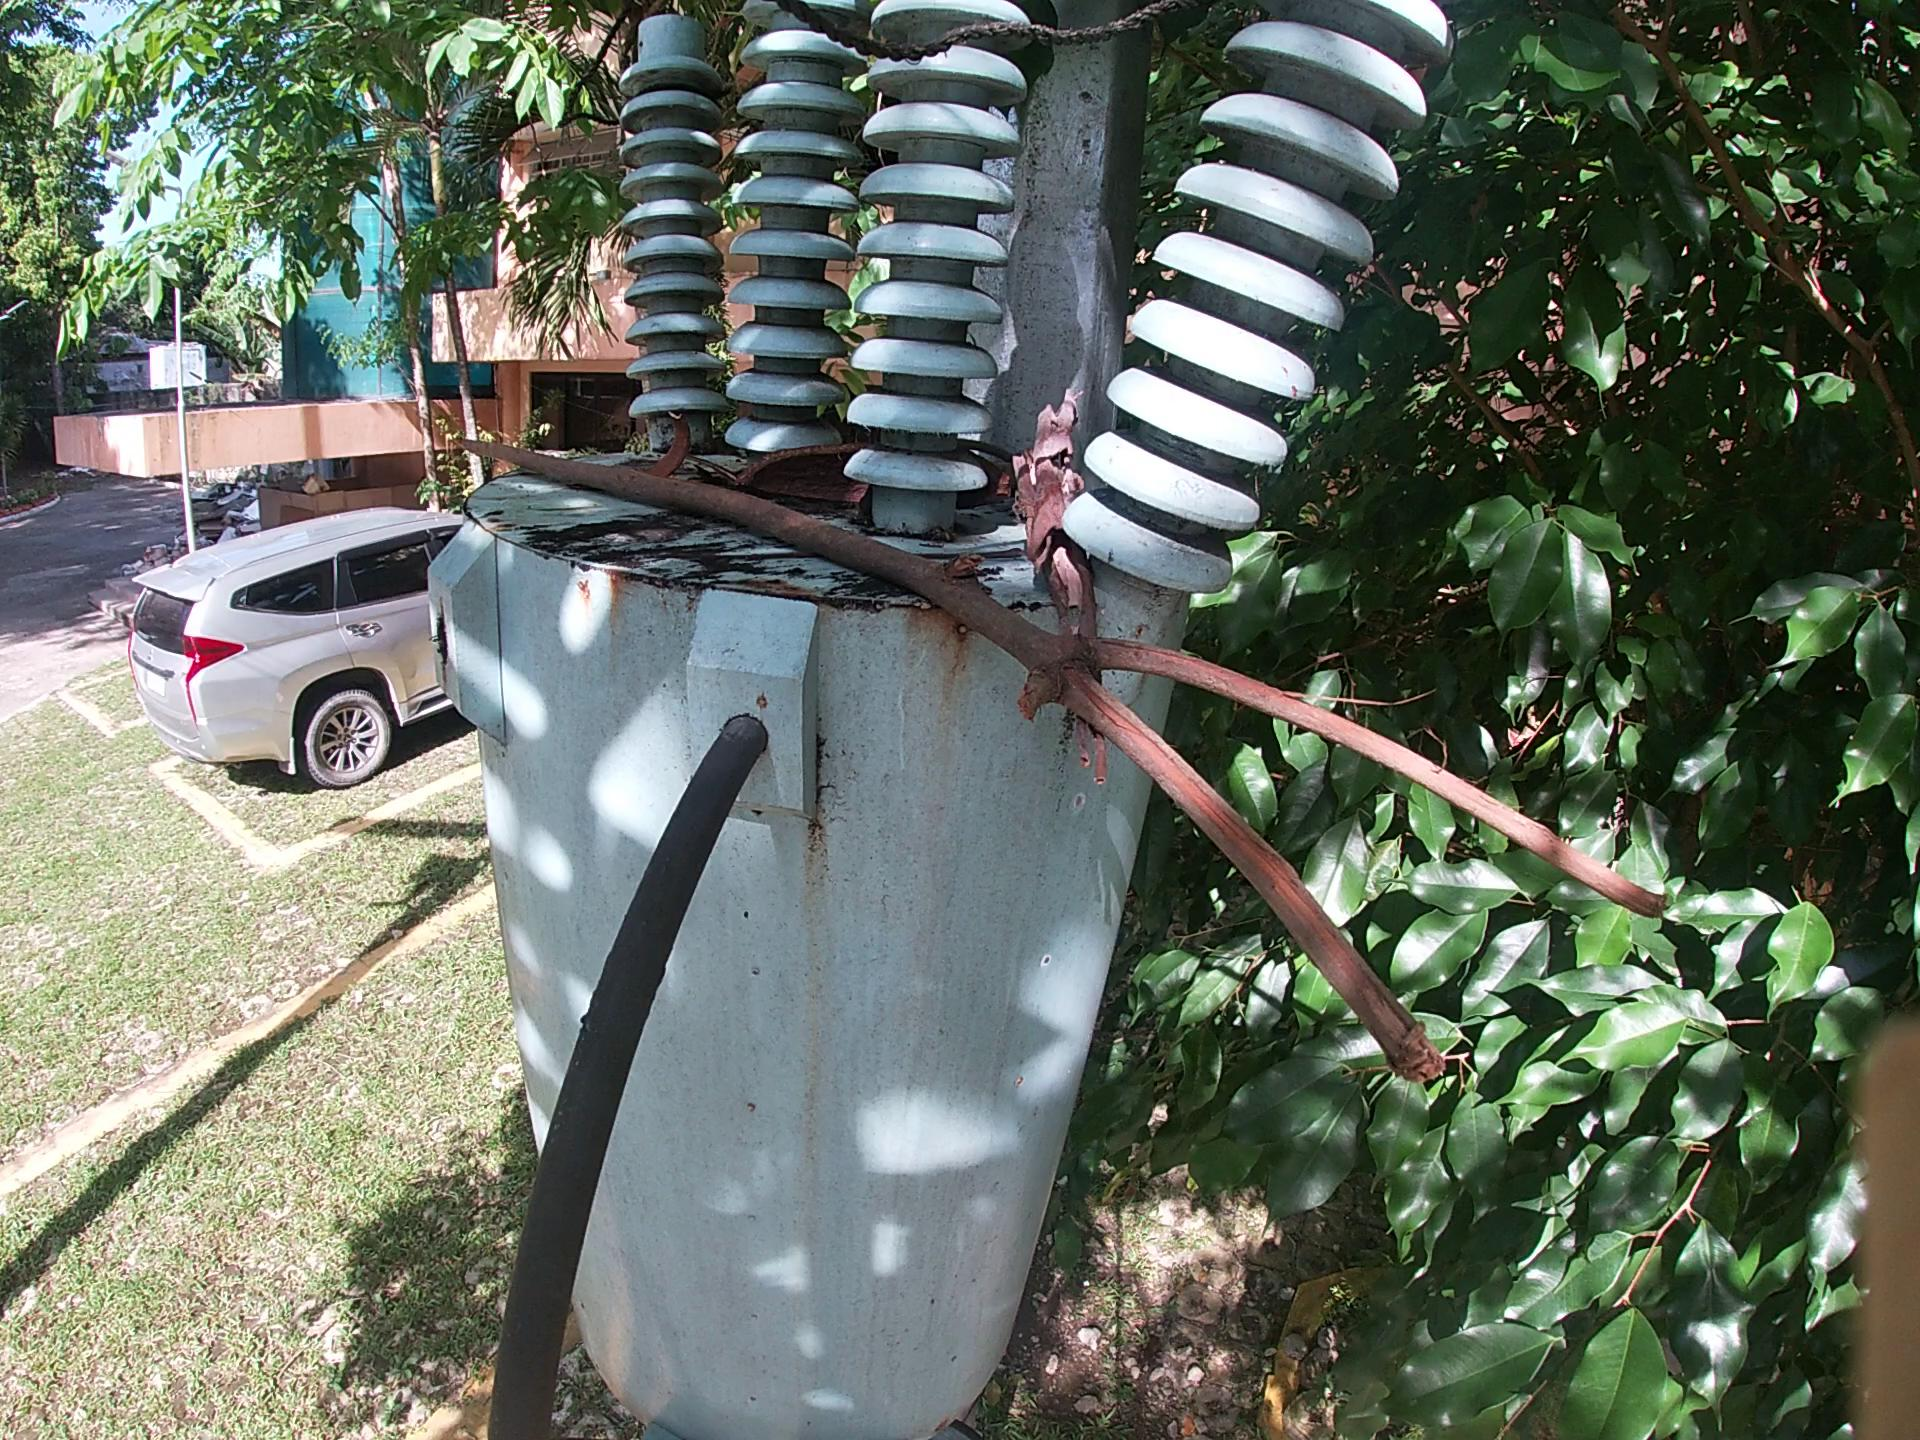mahogany fruit: (735, 451, 862, 504), (635, 405, 695, 467), (958, 466, 1022, 511)
tree branch: (454, 437, 1733, 1094), (1020, 387, 1110, 839), (974, 443, 1020, 475)
